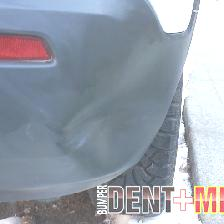bumper_dent: (48, 78, 147, 165)
